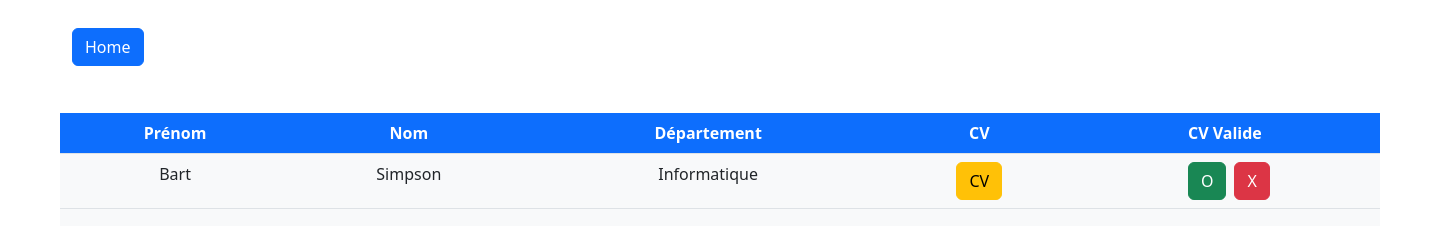
Scenario: StudentCvValidationPageTests › GetPdfTest
Click the button "CV" at {"x": 979, "y": 181}, box [956,162,1002,200]
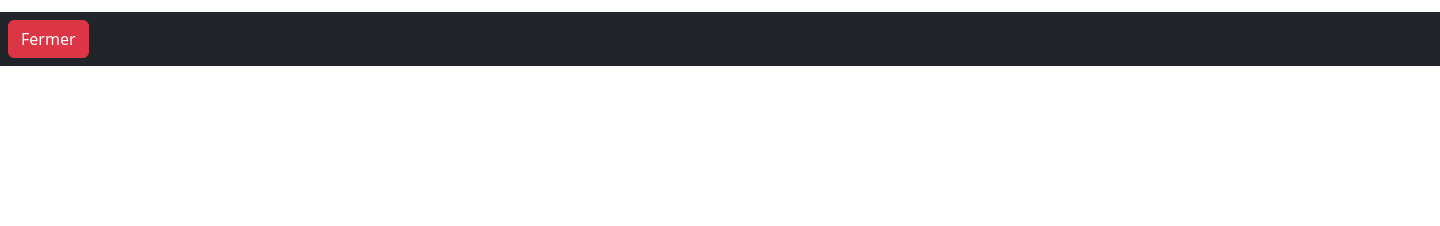
Expected: the button "Fermer" is shown, [8,20,88,58]
